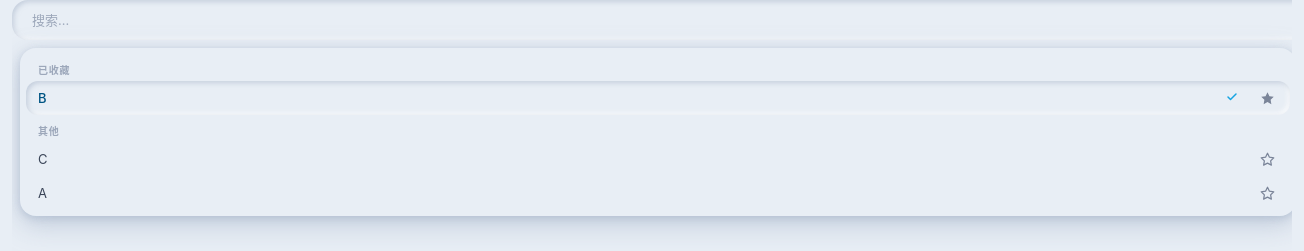
Test: 表单与选择器回归 › Select 将置顶项提升到菜单首部，且额外操作不会触发选择
Check: the text "已收藏" is shown, box left=38, top=64, right=70, bottom=76
Check: the options read "B", "C", "A", in this order, box left=26, top=81, right=1250, bottom=115; left=26, top=142, right=1250, bottom=176; left=26, top=176, right=1250, bottom=210
Click the button named "收藏 C" at (1267, 159), box left=1252, top=144, right=1282, bottom=174
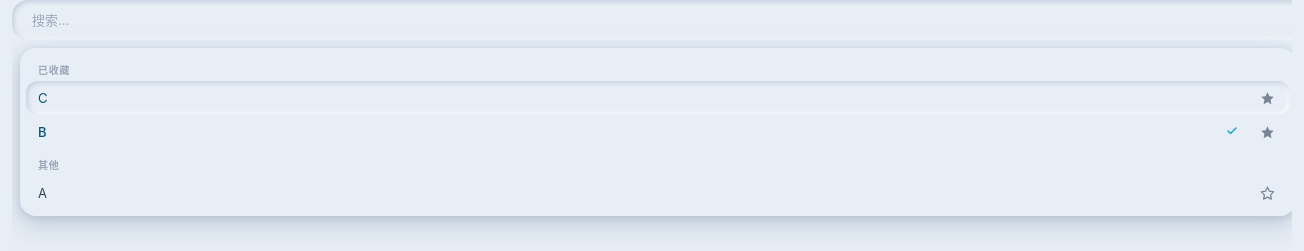
Check: the number of buttons named "取消收藏 C" is 1, box left=1252, top=83, right=1282, bottom=113
Check: the options read "C", "B", "A", in this order, box left=26, top=81, right=1250, bottom=115; left=26, top=115, right=1250, bottom=149; left=26, top=176, right=1250, bottom=210
Type "B" into the dropdown with placeholder "搜索..." at (661, 20), box left=30, top=8, right=1292, bottom=32
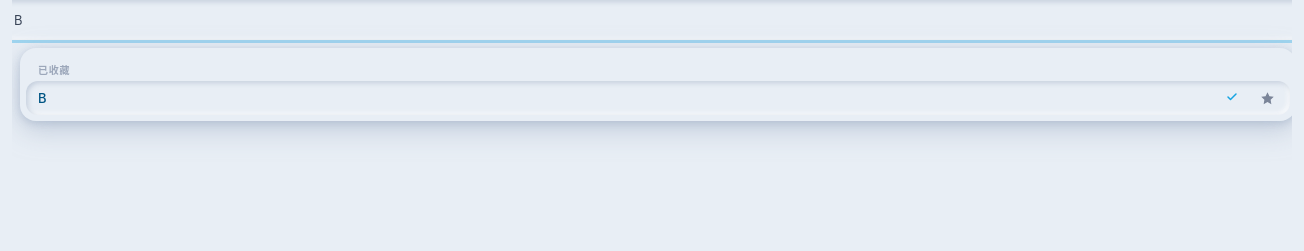
Check: the options read "B", in this order, box left=26, top=81, right=1250, bottom=115
